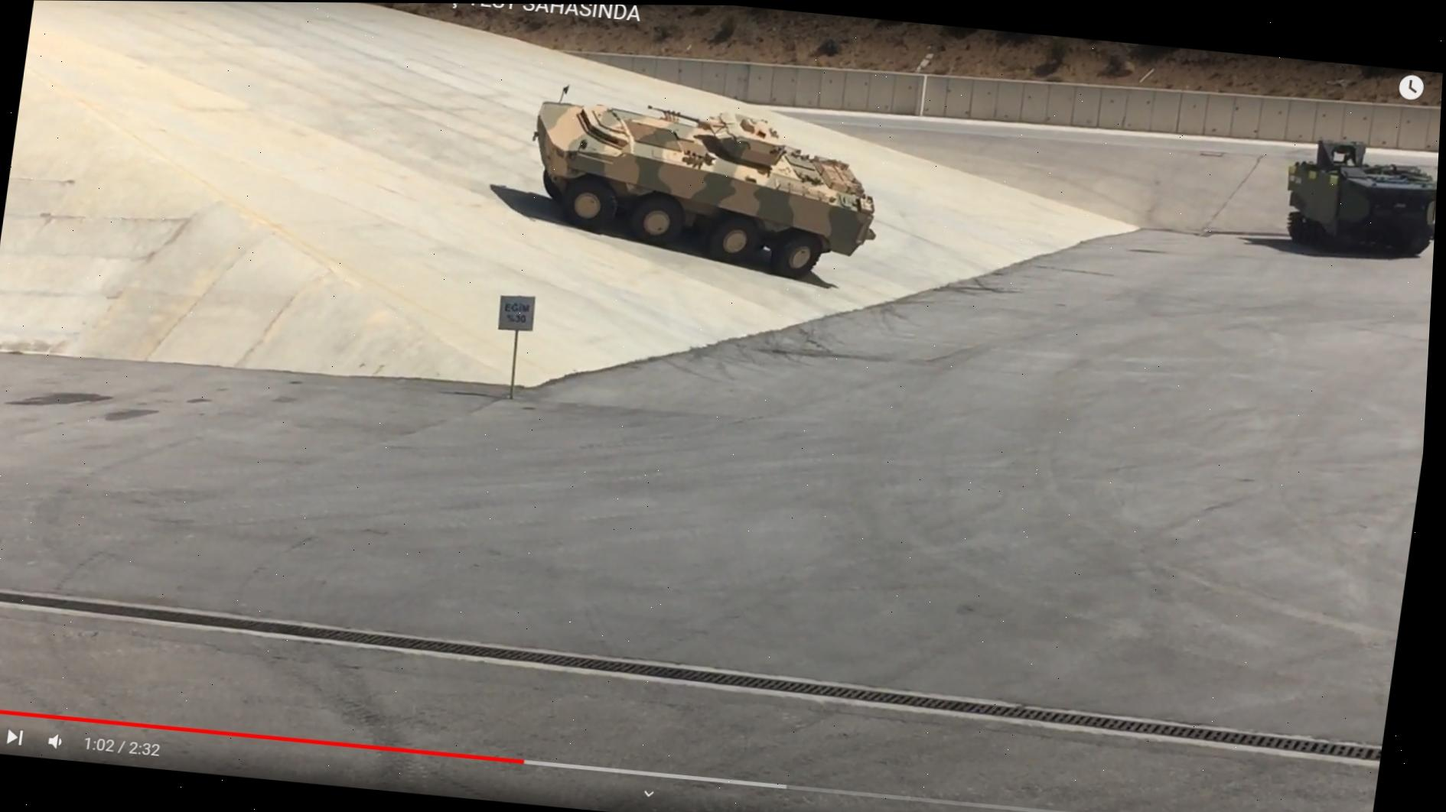armored_car: (510, 94, 892, 291)
